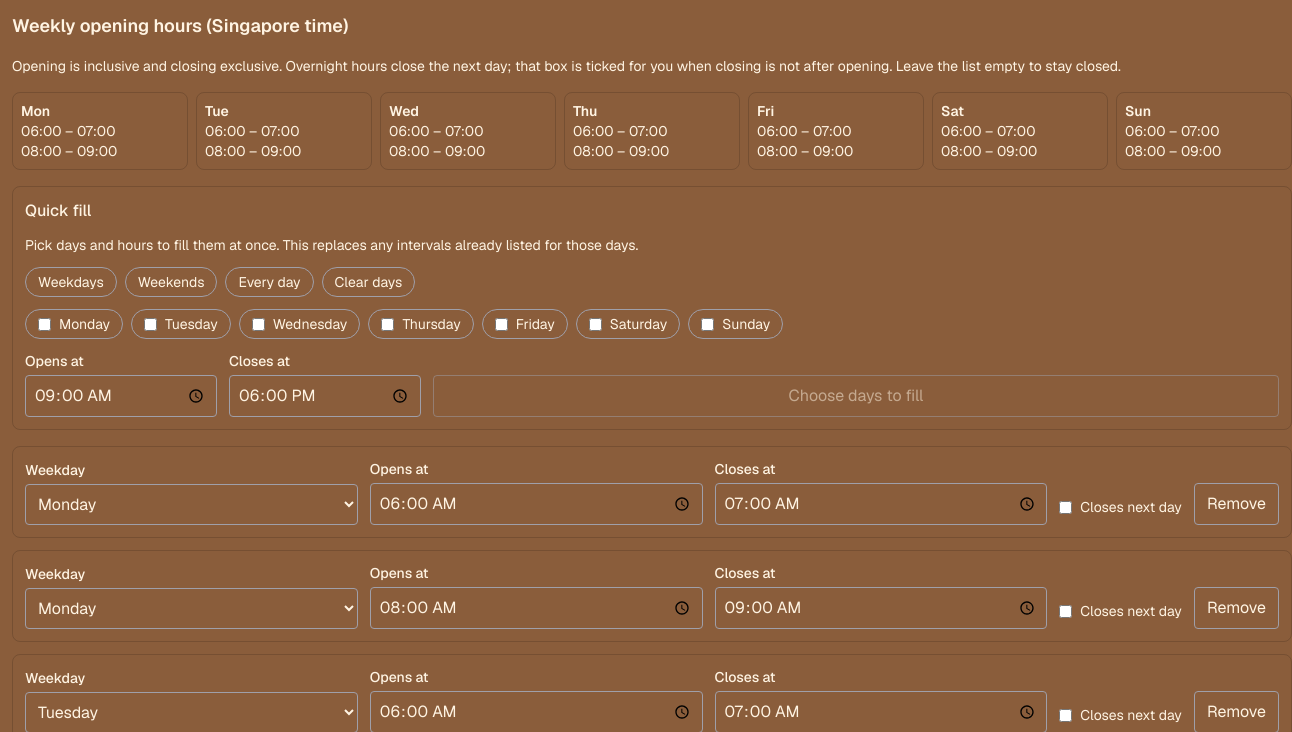
Test case: quick fill stays disabled until days are chosen
Check: the button "Choose days to fill" is disabled, box x1=433 y1=375 x2=1279 y2=417
What coordinates should you click on to do the following:
click the button "Every day"
I would click on:
 (270, 282)
Its box is x1=226 y1=267 x2=314 y2=297.
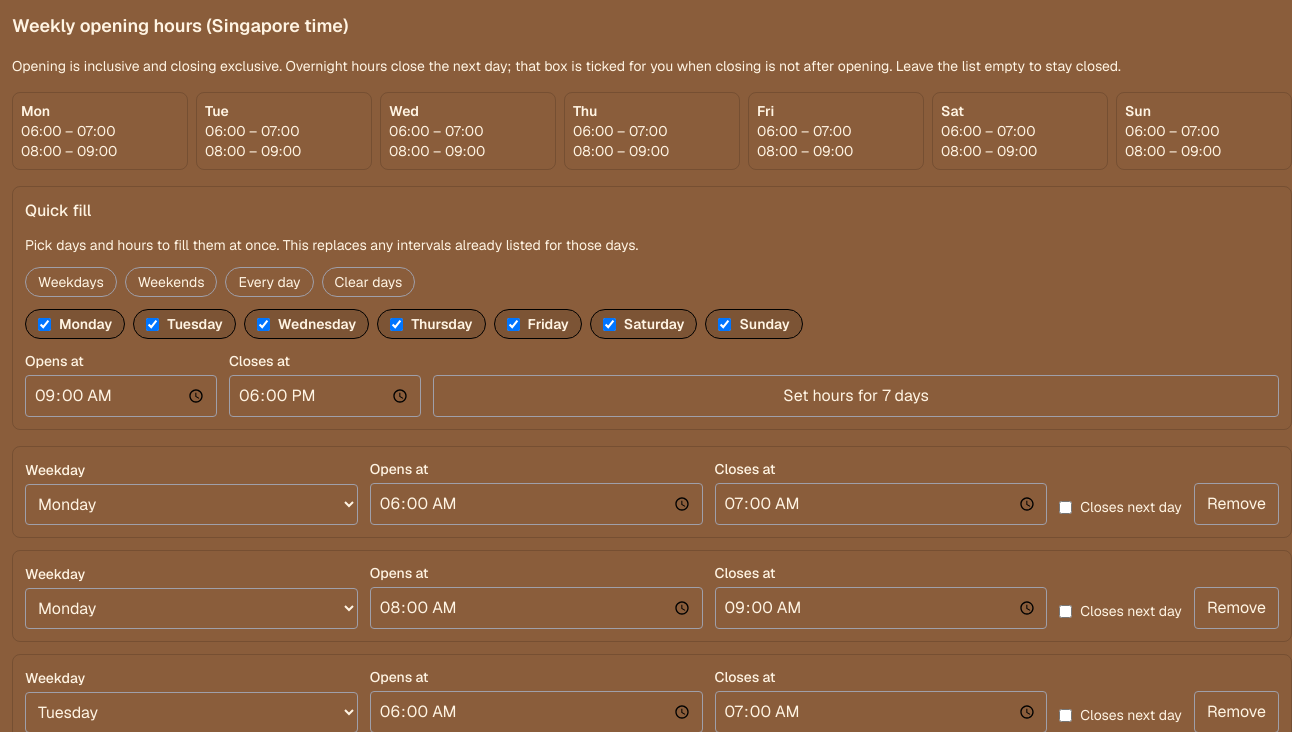
Check: the button "Set hours for 7 days" is enabled, box x1=433 y1=375 x2=1279 y2=417
